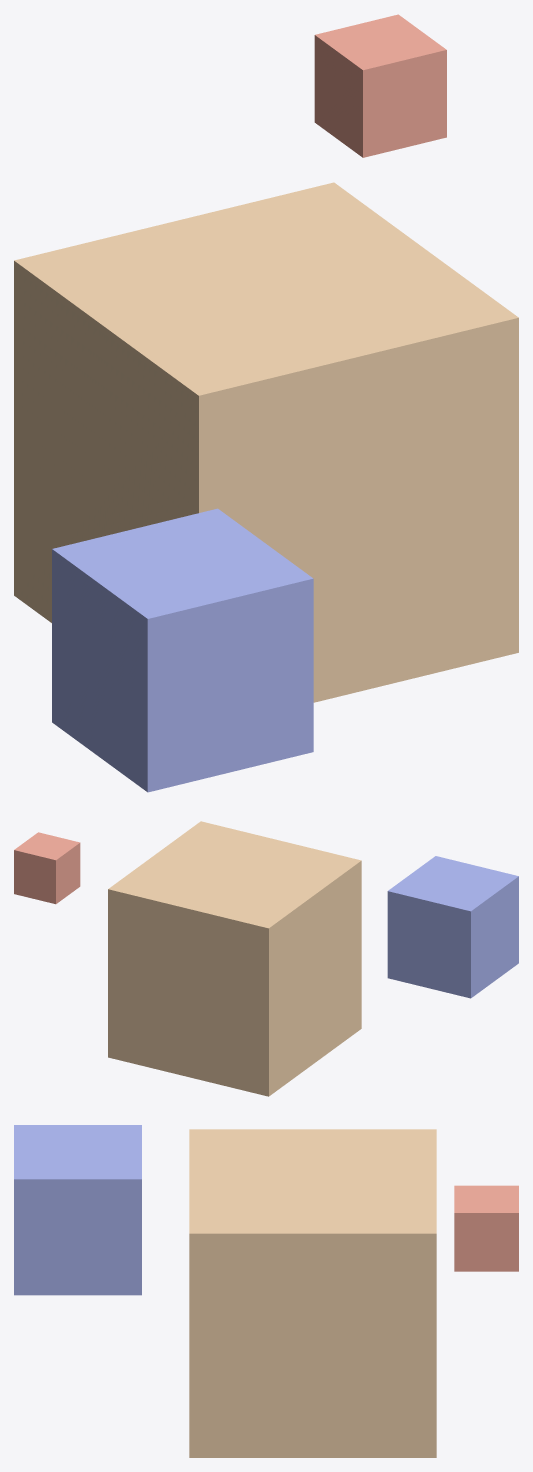
Rendered from Startup.glb.
The picture shows the model from 3 angles, top to bottom: view 1: azimuth 30°, elevation 25°; view 2: azimuth 150°, elevation 25°; view 3: azimuth 270°, elevation 25°; orthographic projection. The views are drawn at different scales.
Visible parts, largest first — view 1: Cube, Cube.001, Cube.002; view 2: Cube, Cube.001, Cube.002; view 3: Cube, Cube.001, Cube.002.
Boxes of the visible parts, bbox=[...] form: Cube: bbox=[14, 182, 518, 702]; Cube.001: bbox=[52, 508, 313, 792]; Cube.002: bbox=[314, 14, 446, 157]; Cube: bbox=[108, 821, 361, 1096]; Cube.001: bbox=[387, 856, 518, 998]; Cube.002: bbox=[14, 832, 80, 904]; Cube: bbox=[189, 1129, 436, 1457]; Cube.001: bbox=[14, 1125, 141, 1295]; Cube.002: bbox=[454, 1185, 518, 1271].
Size of the model in its own units: 245 by 159 by 255.
